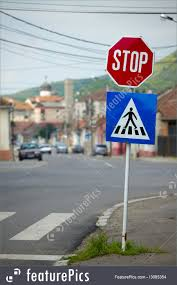stop: (103, 30, 155, 88)
